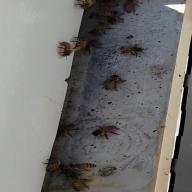Bee: (91, 120, 129, 140), (58, 39, 79, 57), (72, 0, 91, 11)
